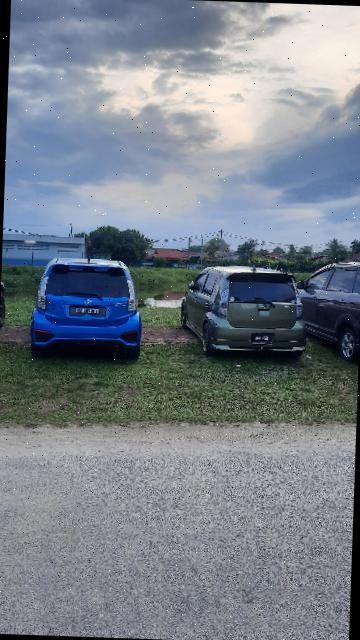License_Plate: (68, 306, 109, 321), (255, 334, 277, 347)
car: (179, 261, 311, 363), (28, 256, 148, 364)
